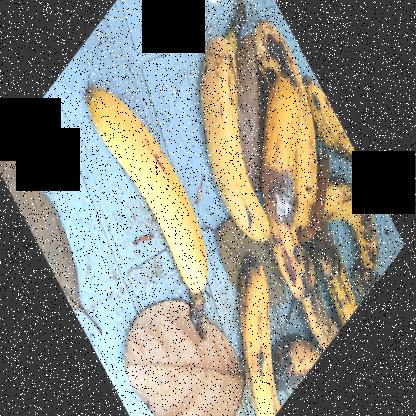freshripe: (71, 76, 208, 291)
ripe: (194, 22, 266, 251), (229, 271, 283, 415)
rotten: (262, 71, 321, 308)
